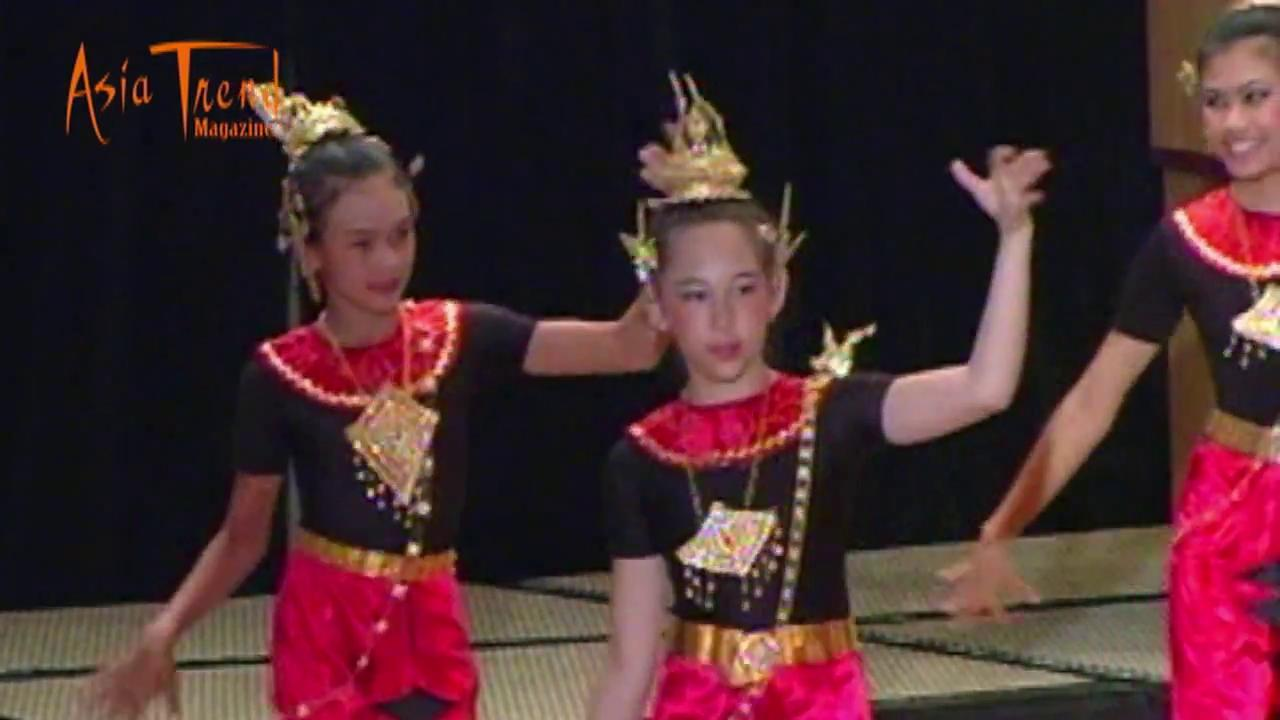victim: (80, 99, 706, 720), (571, 103, 1056, 720), (928, 4, 1275, 720)
